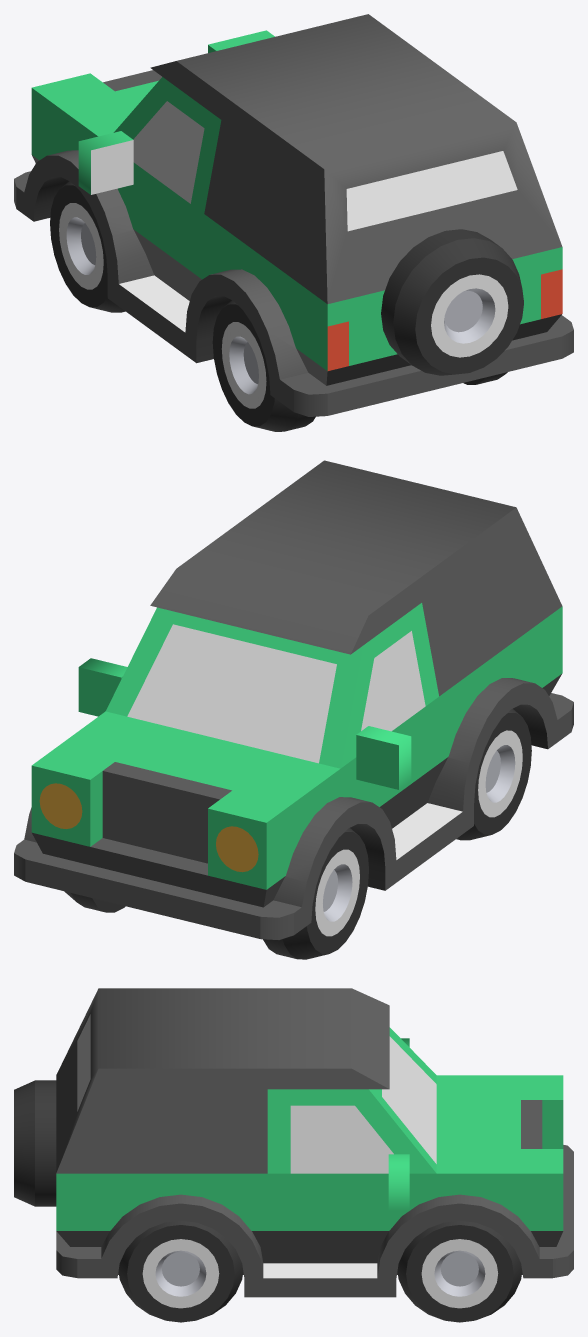
File: suv.glb
3 views of the same model, one above another, from view 1: azimuth 30°, elevation 25°; view 2: azimuth 150°, elevation 25°; view 3: azimuth 270°, elevation 25° (orthographic). The views are drawn at different scales.
Parts seen in each view (by area): view 1: Mesh body, wheel_back, wheel_backLeft, wheel_frontLeft; view 2: Mesh body, wheel_frontLeft, wheel_backLeft; view 3: Mesh body, wheel_backRight, wheel_frontRight, wheel_back.
Part boxes in pixels (x1,y1,x2,y2): Mesh body: (14,14,573,416); wheel_back: (381,229,523,375); wheel_backLeft: (212,300,315,431); wheel_frontLeft: (50,181,125,312); Mesh body: (14,460,573,939); wheel_frontLeft: (263,828,368,959); wheel_backLeft: (456,708,531,840); Mesh body: (56,988,573,1297); wheel_backRight: (118,1220,243,1322); wheel_frontRight: (397,1220,522,1322); wheel_back: (14,1080,56,1206).
Size of the model in its own units: 1.5 by 1.3 by 2.65.
